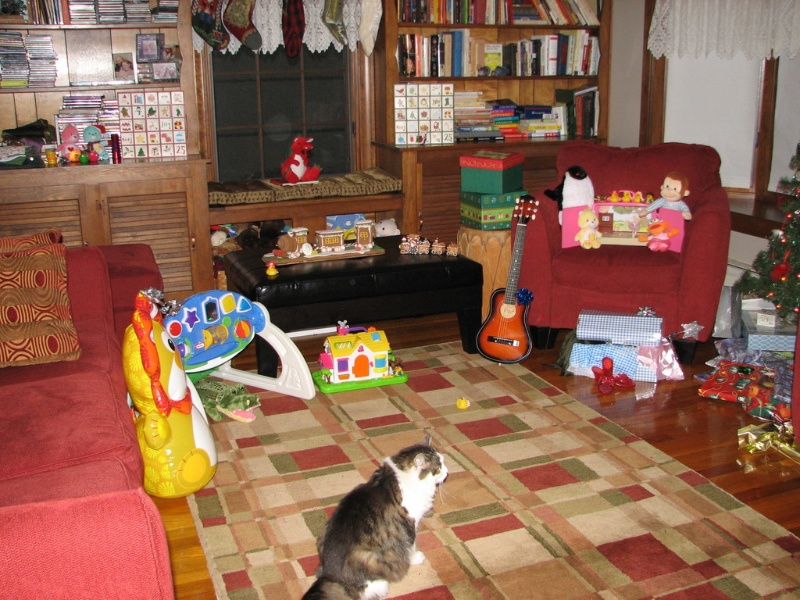book: (526, 29, 601, 72)
cat: (289, 429, 453, 599)
couch: (3, 223, 182, 599)
